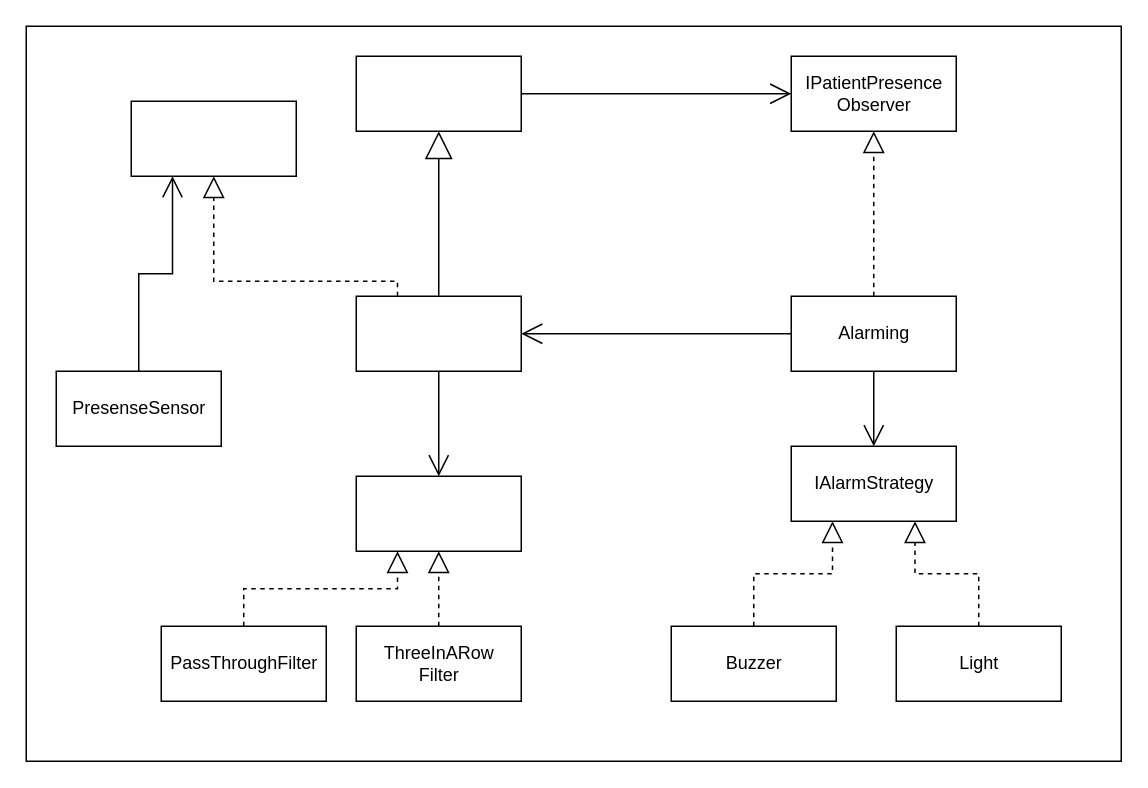
The diagram is 1148 pixels wide and 788 high, and some of its shapes have lost their labels. The shapes that lost their labels are listed below. From the top down, each one's centre as x and y in pixels, then its label:
At pixel 438 93: "<<abstract>> PatientPresence Subject".
At pixel 213 138: "IBedController".
At pixel 438 333: "BedController".
At pixel 438 513: "IFilterStrategy".
